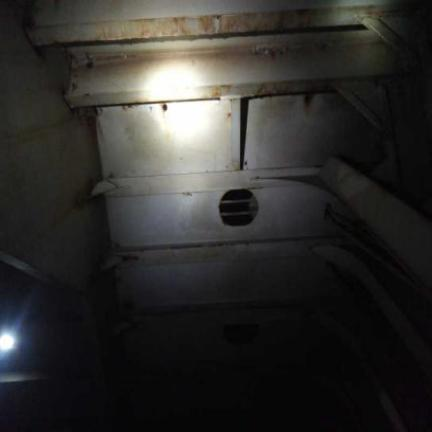besi_tidak_karat: (0, 0, 109, 288), (64, 31, 401, 107), (106, 183, 335, 249), (99, 101, 236, 176), (245, 93, 381, 168)
karat: (27, 0, 422, 44)
